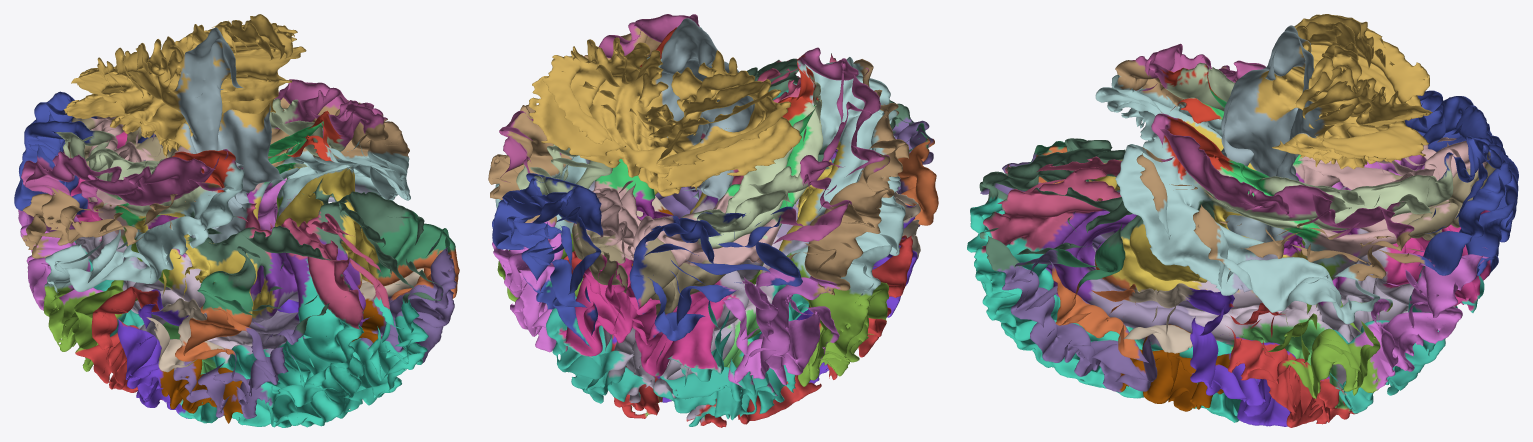
File: brain_parcellated.glb
3 views of the same model, side by side, from view 1: azimuth 30°, elevation 25°; view 2: azimuth 150°, elevation 25°; view 3: azimuth 270°, elevation 25° (orthographic). The views are drawn at different scales.
Visible parts, largest first — view 1: world; view 2: world; view 3: world.
Boxes of the visible parts, left/top/right/bottom form: world: left=14, top=14, right=459, bottom=427; world: left=488, top=14, right=938, bottom=427; world: left=967, top=14, right=1518, bottom=427.
Bounding box in the file's own units: 130 × 137 × 176.
